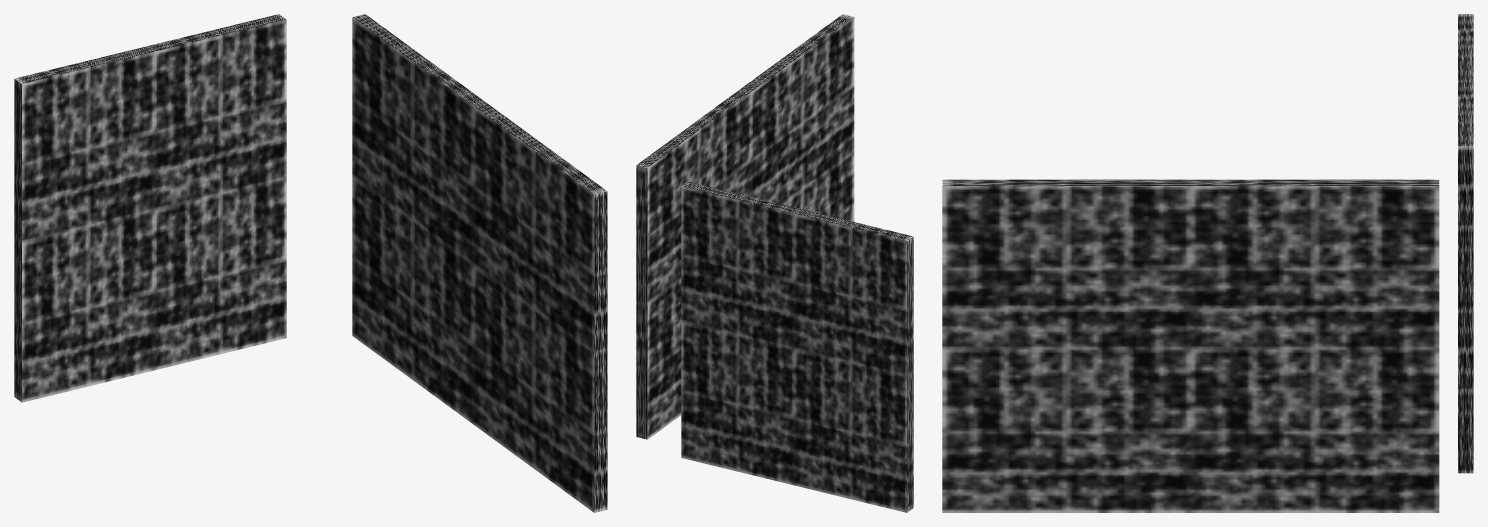
Rendered from Area1.fbx.
The picture shows the model from 3 angles, left to right: view 1: azimuth 30°, elevation 25°; view 2: azimuth 150°, elevation 25°; view 3: azimuth 270°, elevation 25°; orthographic projection. The views are drawn at different scales.
Visible parts, largest first — view 1: Cube__1_, Cube__2_; view 2: Cube__1_, Cube__2_; view 3: Cube__2_, Cube__1_.
Boxes of the visible parts, x1,y1,x2,y2 form: Cube__1_: (14,14,286,402); Cube__2_: (352,14,607,512); Cube__1_: (681,181,913,512); Cube__2_: (636,14,854,439); Cube__2_: (942,179,1439,512); Cube__1_: (1458,14,1473,473).
Size of the model in its own units: 2526 by 2334 by 3389.
